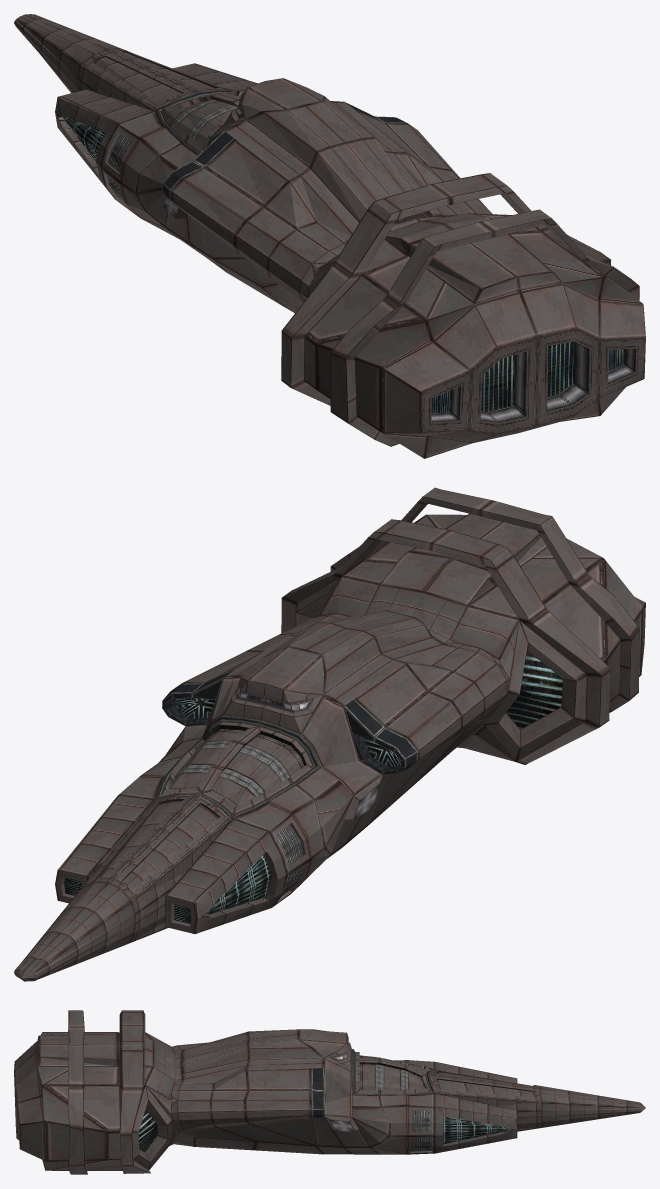
Rendered from 8OMH7.obj.
The picture shows the model from 3 angles, top to bottom: view 1: azimuth 30°, elevation 25°; view 2: azimuth 150°, elevation 25°; view 3: azimuth 270°, elevation 25°; orthographic projection. The views are drawn at different scales.
Visible parts, largest first — view 1: Cube.002; view 2: Cube.002; view 3: Cube.002.
Boxes of the visible parts, left/top/right/bottom form: Cube.002: left=14, top=14, right=645, bottom=458; Cube.002: left=14, top=487, right=645, bottom=981; Cube.002: left=14, top=1010, right=645, bottom=1174.
Size of the model in its own units: 5.85 by 3.41 by 16.38.
5 materials, 5 textured.
